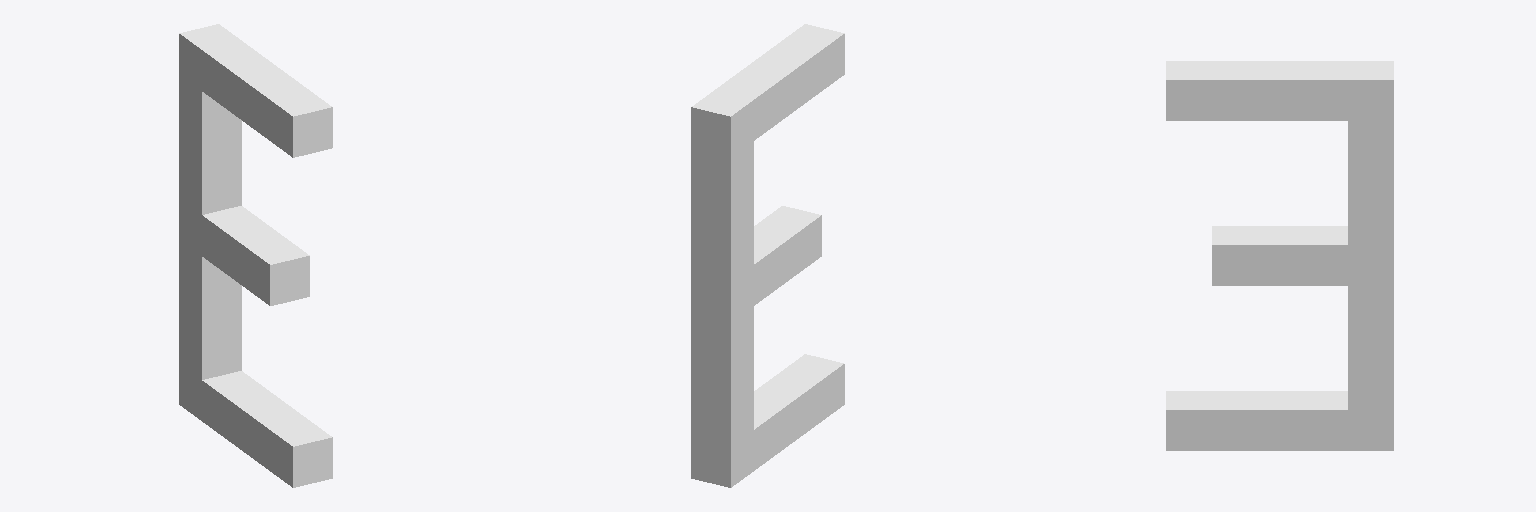
File: let_E.obj
3 renders of one model, left to right at view 1: azimuth 30°, elevation 25°; view 2: azimuth 150°, elevation 25°; view 3: azimuth 270°, elevation 25°, orthographic.
Parts seen in each view (by area): view 1: object 1; view 2: object 1; view 3: object 1.
Part boxes in pixels (left/top/right/bottom): object 1: left=179, top=24, right=332, bottom=487; object 1: left=691, top=24, right=844, bottom=487; object 1: left=1166, top=61, right=1393, bottom=450.
Bounding box in the file's own units: 0.1 × 0.9 × 0.5.